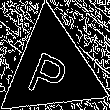P_NE: (27, 38, 77, 100)
